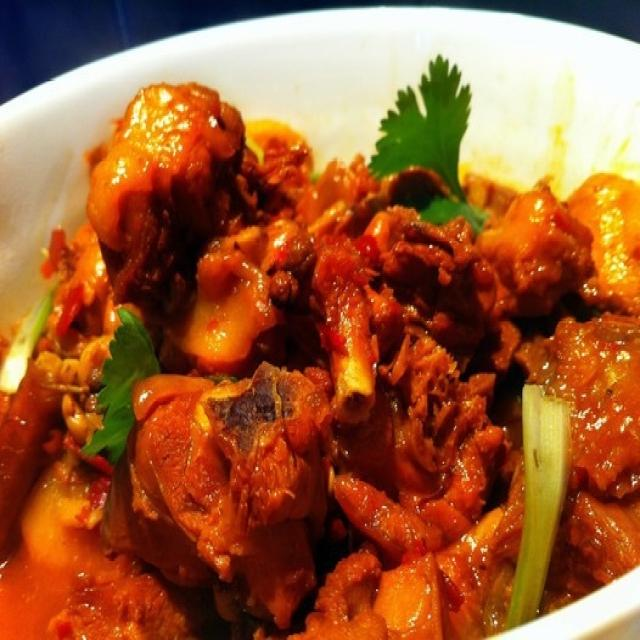鸡肉料理 含炸鸡: (23, 28, 610, 632)
